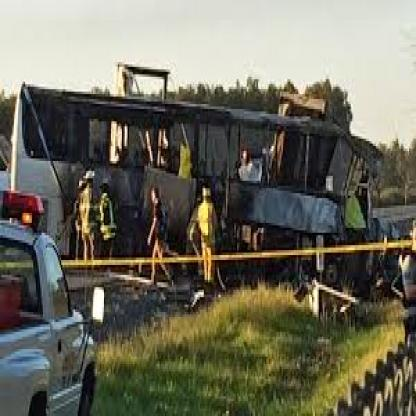accident: (5, 75, 380, 275)
